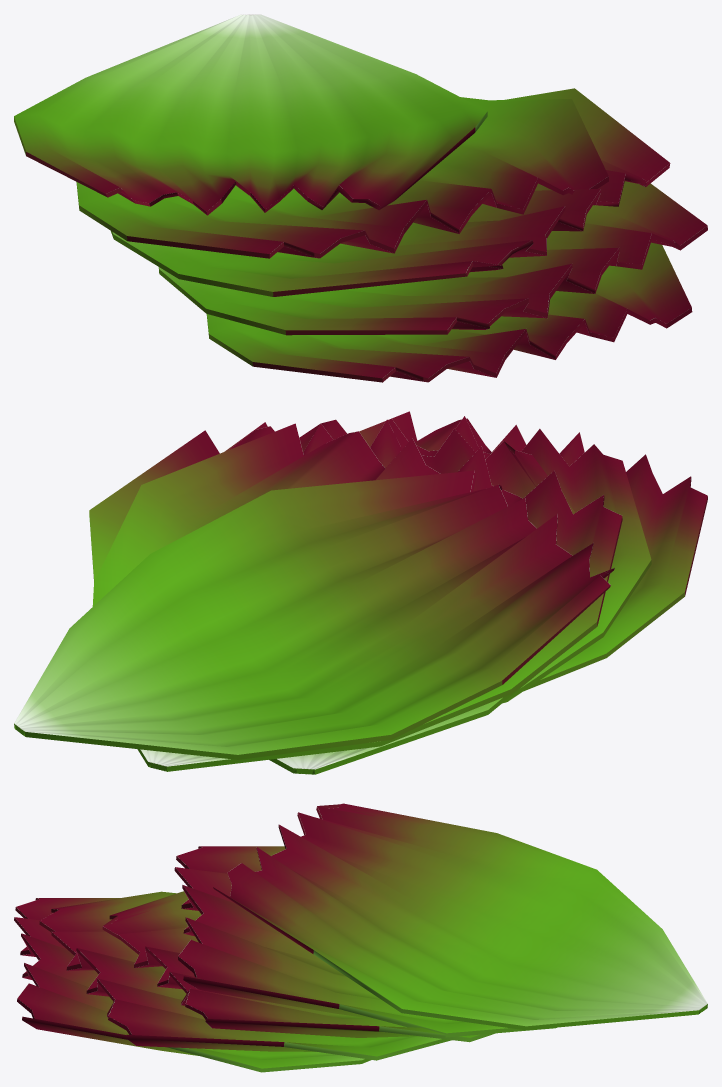
The model's file is LechugaCortada.fbx.
3 views of the same model, one above another, from view 1: azimuth 30°, elevation 25°; view 2: azimuth 150°, elevation 25°; view 3: azimuth 270°, elevation 25° (orthographic). The views are drawn at different scales.
Visible parts, largest first — view 1: LechugaCortada; view 2: LechugaCortada; view 3: LechugaCortada.
Part boxes in pixels (x1=…): LechugaCortada: x1=14, y1=14, x2=707, y2=382; LechugaCortada: x1=14, y1=411, x2=707, y2=774; LechugaCortada: x1=14, y1=803, x2=707, y2=1072.
Bounding box in the file's own units: 18.4 × 6.18 × 27.25.
1 material, 1 textured.
